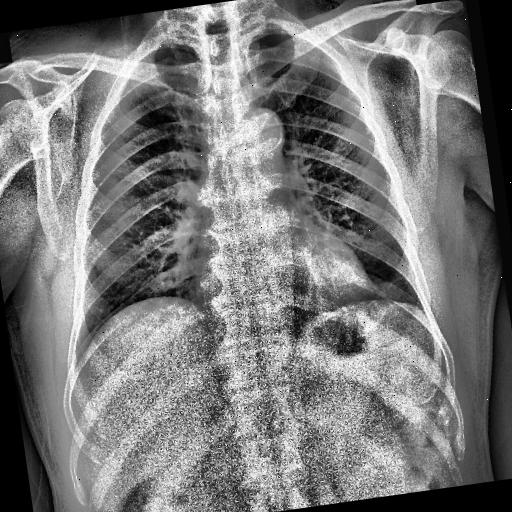0- Aortic enlargement: (232, 104, 290, 175), (232, 106, 286, 163), (247, 107, 285, 151)
3- Cardiomegaly: (190, 229, 382, 328)
